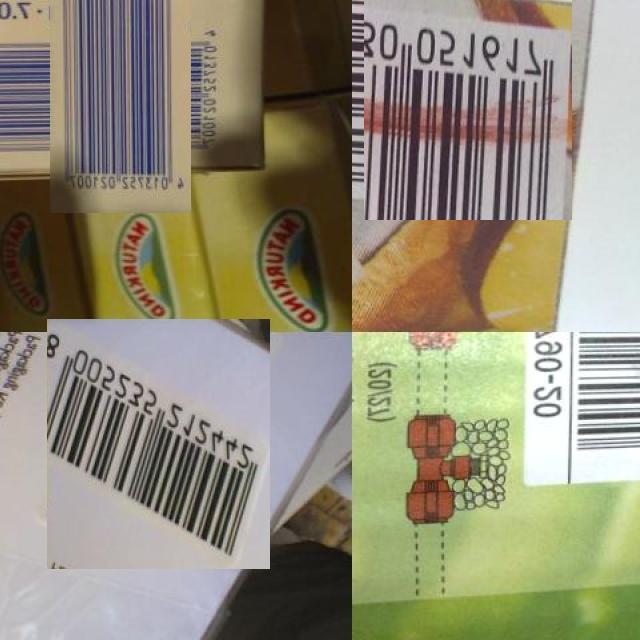Barcode: (40, 325, 277, 562), (358, 0, 578, 214), (24, 0, 216, 188), (521, 332, 640, 484)
